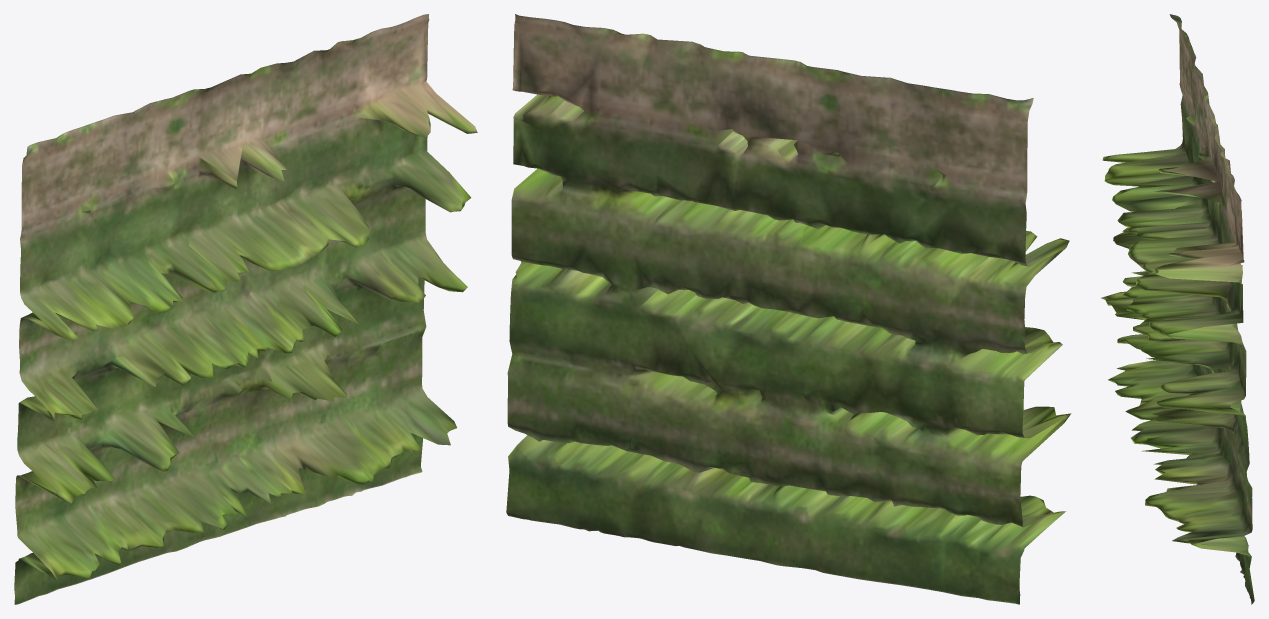
Rendered from map_150_30.obj.
3 views of the same model, side by side, from view 1: azimuth 30°, elevation 25°; view 2: azimuth 150°, elevation 25°; view 3: azimuth 270°, elevation 25° (orthographic). The views are drawn at different scales.
Parts seen in each view (by area): view 1: map_150_30.obj; view 2: map_150_30.obj; view 3: map_150_30.obj.
Part boxes in pixels (x1=…): map_150_30.obj: x1=14, y1=14, x2=477, y2=604; map_150_30.obj: x1=506, y1=14, x2=1071, y2=604; map_150_30.obj: x1=1101, y1=14, x2=1254, y2=604.
Size of the model in its own units: 10 by 10 by 3.46.
1 material, 1 textured.
